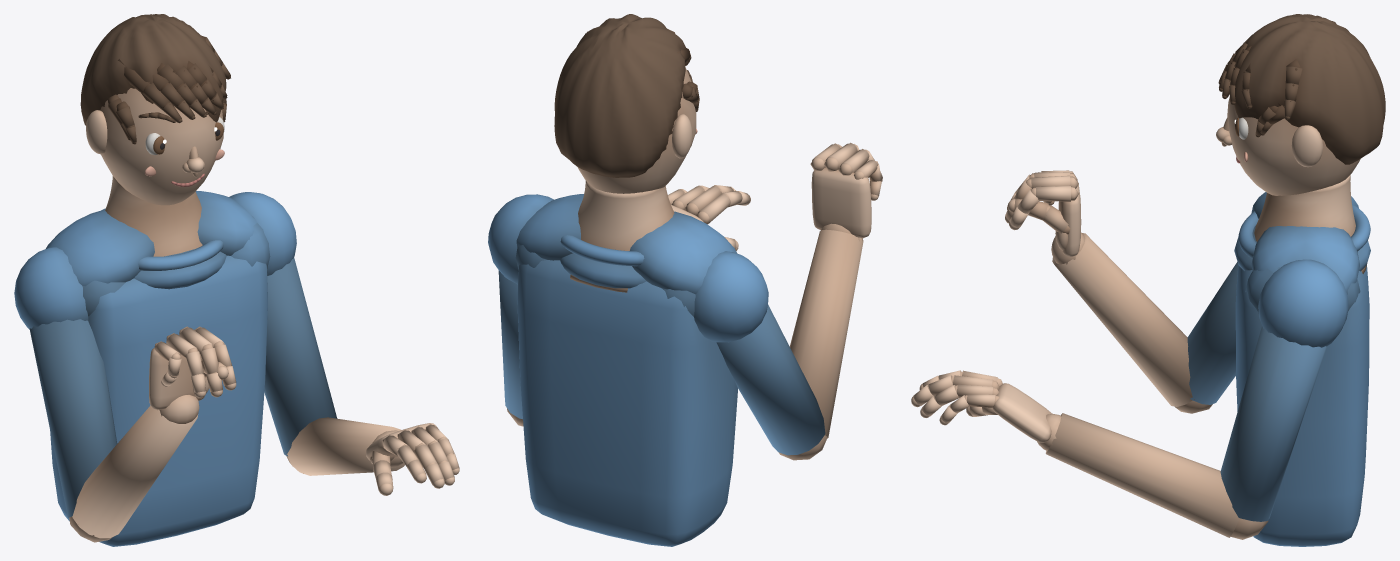
3 renders of one model, left to right at view 1: azimuth 30°, elevation 25°; view 2: azimuth 150°, elevation 25°; view 3: azimuth 270°, elevation 25°, orthographic.
Visible parts, largest first — view 1: LSC_Body; view 2: LSC_Body; view 3: LSC_Body.
Boxes of the visible parts, x1,y1,x2,y2 form: LSC_Body: (14, 14, 459, 546); LSC_Body: (488, 14, 882, 546); LSC_Body: (911, 14, 1385, 546).
Size of the model in its own units: 0.4304 by 0.713 by 0.6104.
